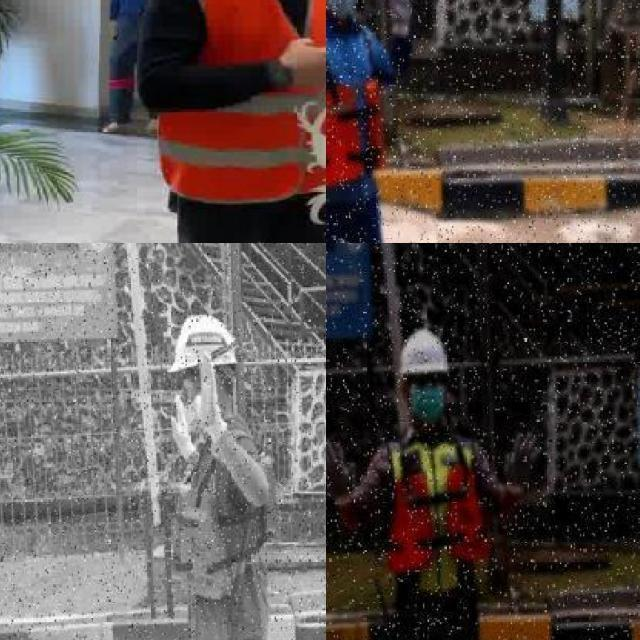apron: (192, 351, 228, 445), (499, 430, 544, 498), (326, 438, 360, 509), (166, 391, 197, 464), (385, 0, 413, 38)
